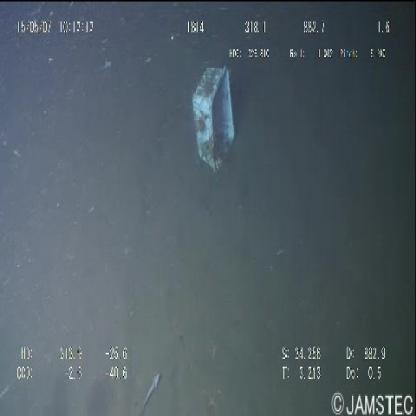Rác: (187, 55, 240, 179)
